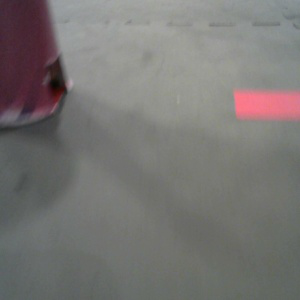middle: (1, 1, 75, 128)
